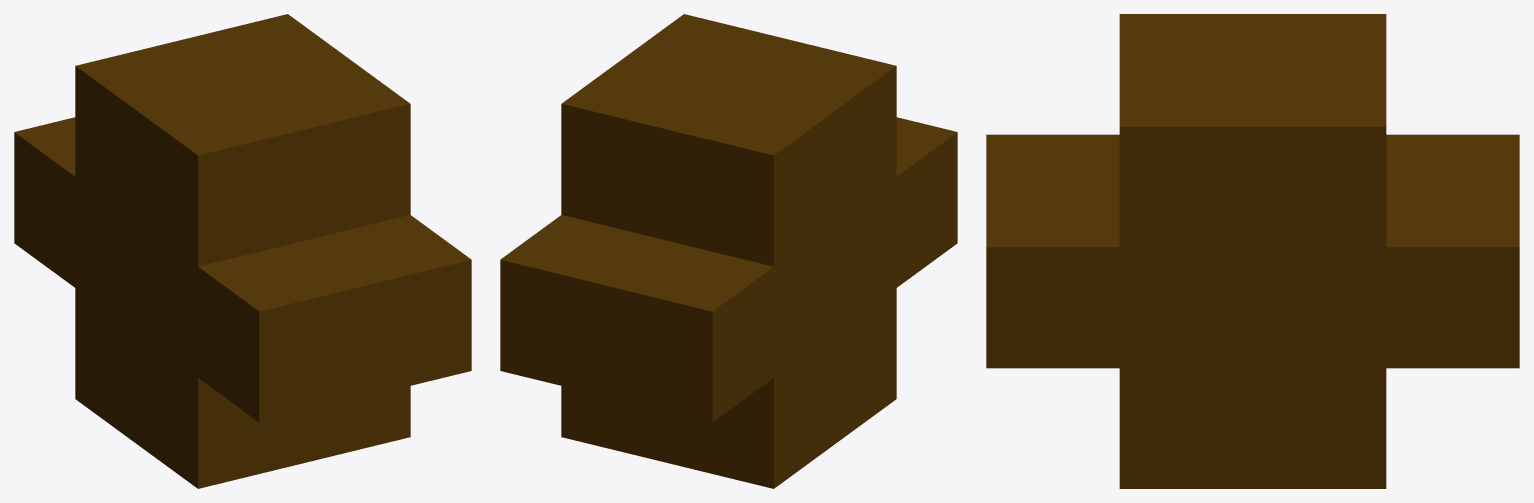
Rendered from bear_tail.fbx.
The picture shows the model from 3 angles, left to right: view 1: azimuth 30°, elevation 25°; view 2: azimuth 150°, elevation 25°; view 3: azimuth 270°, elevation 25°; orthographic projection. The views are drawn at different scales.
Visible parts, largest first — view 1: hear_tail; view 2: hear_tail; view 3: hear_tail.
Part boxes in pixels (left/top/right/bottom): hear_tail: left=14, top=14, right=471, bottom=488; hear_tail: left=500, top=14, right=957, bottom=488; hear_tail: left=986, top=14, right=1519, bottom=488.
Size of the model in its own units: 0.2 by 0.3 by 0.4.
